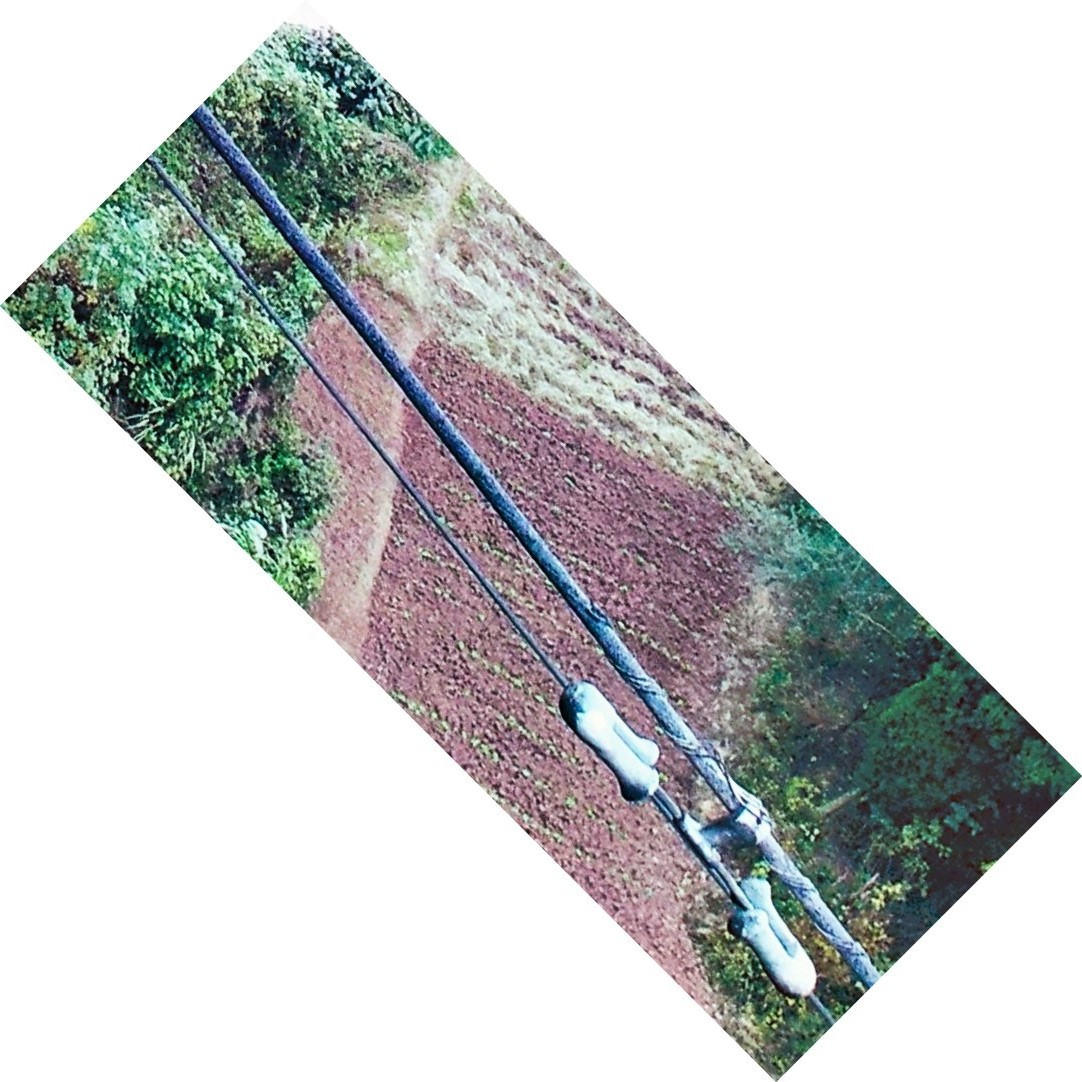Shockproof hammer: (549, 651, 828, 1009)
